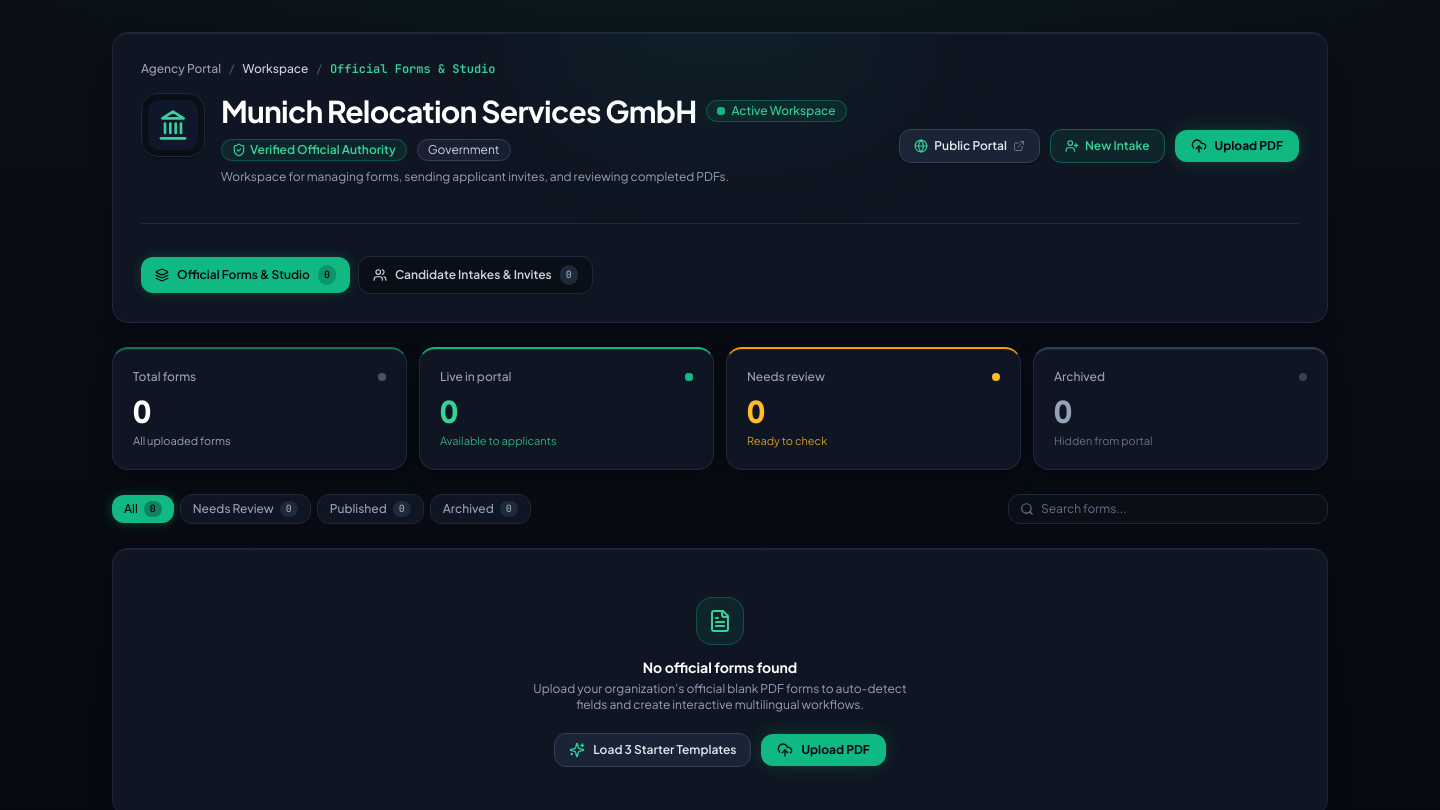
B2B & B2G Platform — Portal & Case Management › opens upload form modal on clicking Upload PDF
Expected: the heading "Munich Relocation Services GmbH" is shown, [221,93,696,129]
Click the button "Upload PDF" in the row of "Public Portal" at (1237, 146), box [1175,130,1299,162]
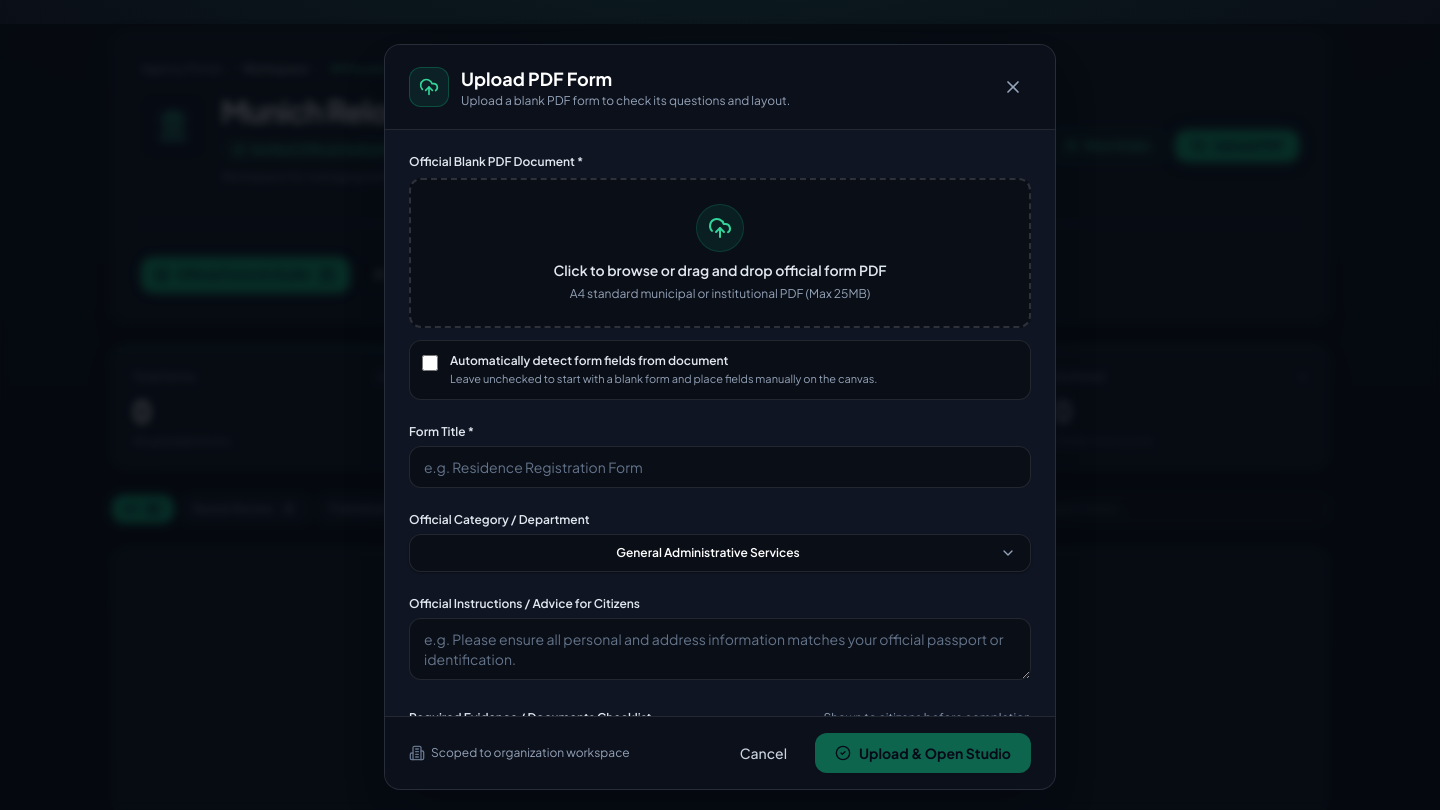
Expected: the heading "Upload PDF Form" is shown, [461,67,612,90]
